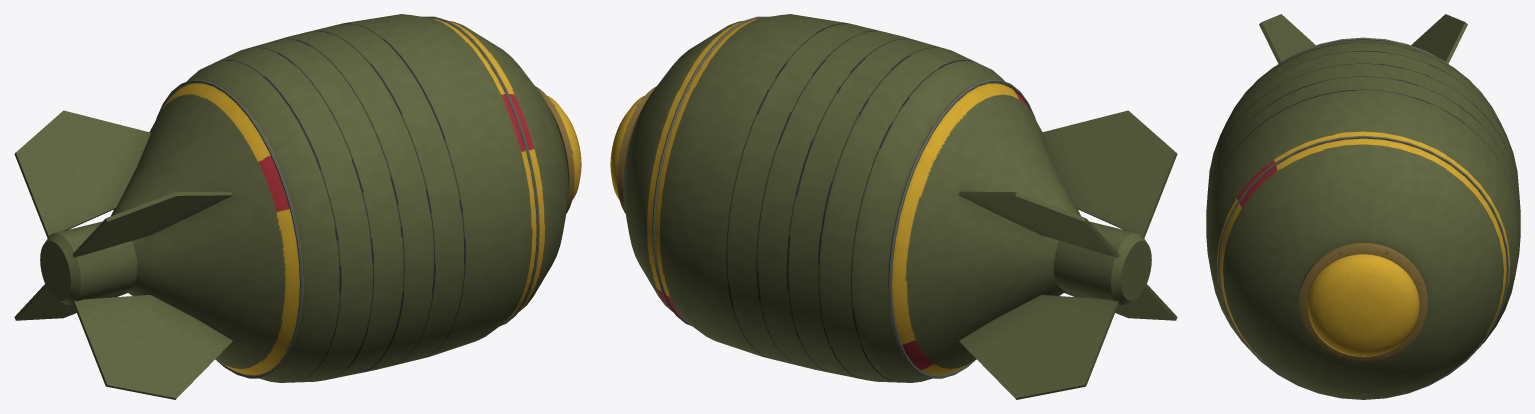
File: bomb.glb
3 renders of one model, left to right at view 1: azimuth 30°, elevation 25°; view 2: azimuth 150°, elevation 25°; view 3: azimuth 270°, elevation 25°, orthographic. The views are drawn at different scales.
Visible parts, largest first — view 1: bomb_MaterialGroup_03, bomb_MaterialGroup_02.002, bomb_MaterialGroup_02.004, bomb_MaterialGroup_02, bomb_MaterialGroup_02.003, Curved casing band, bomb_MaterialGroup_02.001, Curved casing band.001, bomb_MaterialGroup_01, bomb_MaterialGroup_00; view 2: bomb_MaterialGroup_03, bomb_MaterialGroup_02.001, bomb_MaterialGroup_02.003, bomb_MaterialGroup_02, bomb_MaterialGroup_02.004, Curved casing band, bomb_MaterialGroup_02.002, Curved casing band.001, bomb_MaterialGroup_01, bomb_MaterialGroup_00; view 3: bomb_MaterialGroup_03, bomb_MaterialGroup_00, bomb_MaterialGroup_01, Curved casing band.001, bomb_MaterialGroup_02.003, bomb_MaterialGroup_02.004, Curved casing band.
Part boxes in pixels (left/top/right/bottom): bomb_MaterialGroup_03: left=110, top=14, right=568, bottom=382; bomb_MaterialGroup_02.002: left=72, top=295, right=232, bottom=399; bomb_MaterialGroup_02.004: left=14, top=110, right=150, bottom=238; bomb_MaterialGroup_02: left=40, top=221, right=137, bottom=304; bomb_MaterialGroup_02.003: left=72, top=191, right=232, bottom=257; Curved casing band: left=156, top=79, right=303, bottom=378; bomb_MaterialGroup_02.001: left=14, top=284, right=127, bottom=320; Curved casing band.001: left=423, top=16, right=539, bottom=325; bomb_MaterialGroup_01: left=535, top=86, right=574, bottom=213; bomb_MaterialGroup_00: left=547, top=95, right=581, bottom=199; bomb_MaterialGroup_03: left=623, top=14, right=1081, bottom=382; bomb_MaterialGroup_02.001: left=959, top=295, right=1119, bottom=399; bomb_MaterialGroup_02.003: left=1041, top=110, right=1177, bottom=238; bomb_MaterialGroup_02: left=1054, top=221, right=1151, bottom=304; bomb_MaterialGroup_02.004: left=959, top=191, right=1119, bottom=257; Curved casing band: left=888, top=79, right=1035, bottom=378; bomb_MaterialGroup_02.002: left=1064, top=284, right=1177, bottom=320; Curved casing band.001: left=652, top=16, right=768, bottom=325; bomb_MaterialGroup_01: left=617, top=86, right=656, bottom=213; bomb_MaterialGroup_00: left=610, top=95, right=644, bottom=199; bomb_MaterialGroup_03: left=1206, top=39, right=1520, bottom=399; bomb_MaterialGroup_00: left=1307, top=254, right=1419, bottom=356; bomb_MaterialGroup_01: left=1299, top=242, right=1427, bottom=362; Curved casing band.001: left=1217, top=135, right=1509, bottom=399; bomb_MaterialGroup_02.003: left=1259, top=14, right=1315, bottom=63; bomb_MaterialGroup_02.004: left=1411, top=14, right=1467, bottom=63; Curved casing band: left=1279, top=37, right=1447, bottom=63.
Bounding box in the file's own units: 2.87 × 1.68 × 1.68.
Materials: 1 (1 with a texture image).
